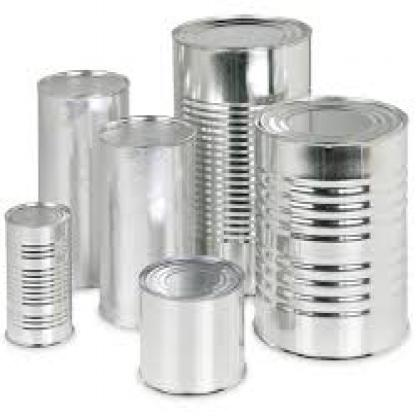METAL: (250, 89, 408, 356), (168, 13, 310, 294), (92, 113, 195, 332), (37, 66, 127, 294), (137, 256, 247, 393), (2, 200, 72, 344)
